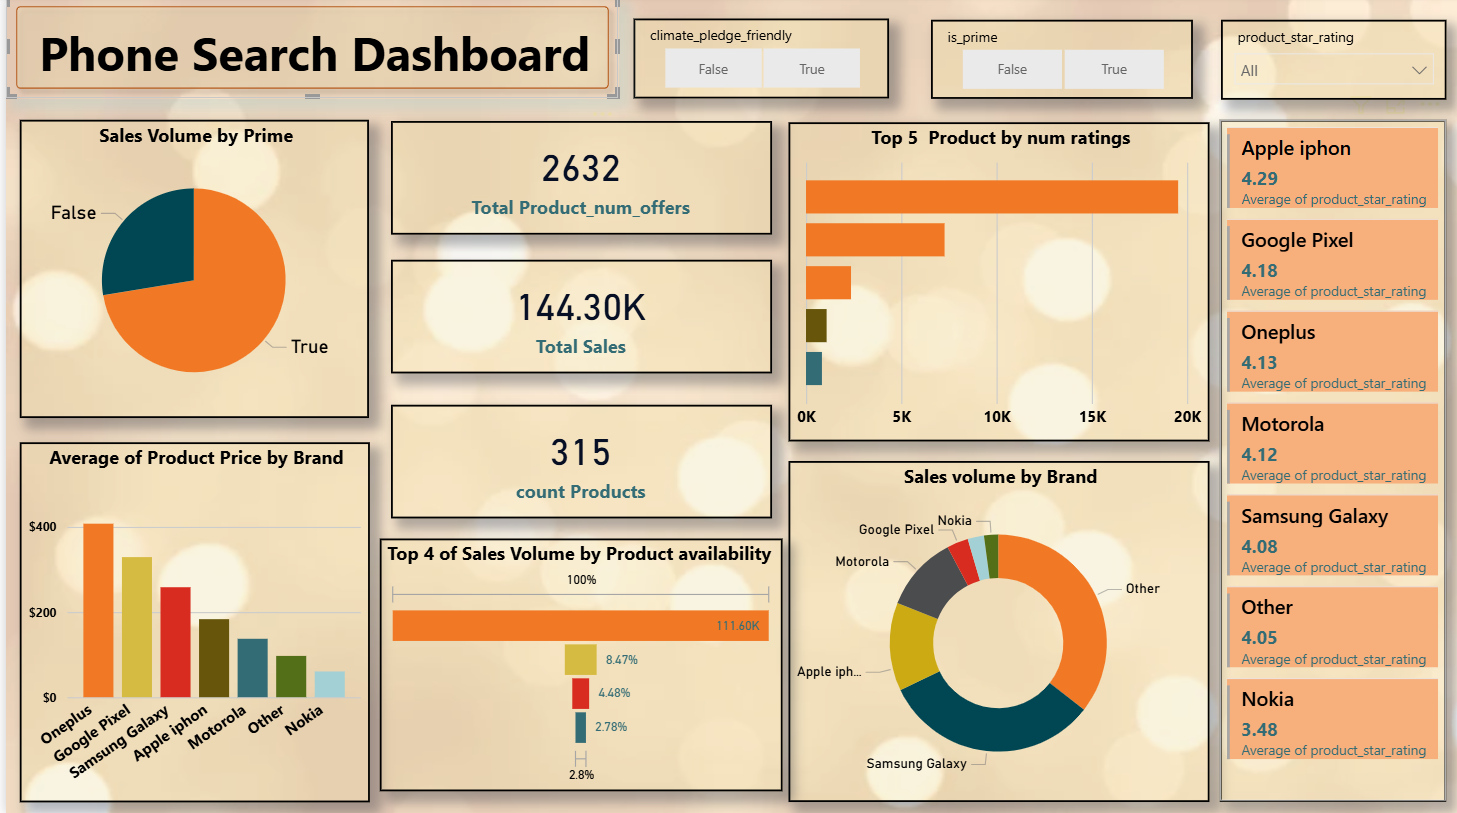

The page's visual inventory and layout, read from the dashboard file:
{"tool":"powerbi","page":{"name":"Dashboard","canvas":[1280,720],"ordinal":1},"visuals":[{"type":"shape","box":[0,0,539.3,90.6],"z":0},{"type":"clusteredColumnChart","title":"Average of Product Price by Brand","fields":{"Y":["Avg(phone search (1).product_price)"],"Category":["phone search (1).Brand"]},"box":[11.7,392.2,307.8,316.9],"z":1000},{"type":"donutChart","title":"Sales volume by Brand","fields":{"Y":["Sum(phone search (1).sales_volume)"],"Category":["phone search (1).Brand"]},"box":[688.1,409.5,370.2,300],"z":2000},{"type":"pieChart","title":" Sales Volume by Prime","fields":{"Y":["Sum(phone search (1).sales_volume)"],"Category":["phone search (1).is_prime"]},"box":[12.3,108.4,307.4,262.1],"z":3000},{"type":"funnel","title":"Top 4 of Sales Volume by Product availability","fields":{"Category":["phone search (1).product_availability"],"Y":["Sum(phone search (1).sales_volume)"]},"box":[328.6,477.4,354.8,222.6],"z":4000},{"type":"barChart","title":"Top 5  Product by num ratings ","fields":{"Category":["phone search (1).product_title"],"Y":["Sum(phone search (1).product_num_ratings)"]},"box":[688.1,110.7,370.2,281],"z":5000},{"type":"card","fields":{"Values":["Dax Measurable.Distinct Products Sold"]},"box":[339,359.7,335.1,100],"z":6000},{"type":"card","fields":{"Values":["Dax Measurable.Total Sales"]},"box":[339,232.5,335.1,100],"z":7000},{"type":"card","fields":{"Values":["Dax Measurable.Total Product_num_offers"]},"box":[339,110.4,335.1,100],"z":8000},{"type":"multiRowCard","fields":{"Values":["phone search (1).Brand","Avg(phone search (1).product_star_rating)"]},"box":[1067.9,108.3,198.8,600],"z":9000},{"type":"slicer","fields":{"Values":["phone search (1).is_prime"]},"box":[813.7,20.6,230.5,70],"z":10000},{"type":"slicer","fields":{"Values":["phone search (1).product_star_rating"]},"box":[1068.8,20.8,198.7,70.1],"z":11000},{"type":"slicer","fields":{"Values":["phone search (1).climate_pledge_friendly"]},"box":[552.4,20.2,225,70.2],"z":12000}]}

Visuals, with their boxes in screenshot pixels (x1, y1, x2, y2), scaled from the page's 1280x720 canvas onto the 1457x813 screenshot:
shape: [0, 0, 614, 102]
"Average of Product Price by Brand" clusteredColumnChart: [13, 443, 364, 801]
"Sales volume by Brand" donutChart: [783, 462, 1205, 801]
" Sales Volume by Prime" pieChart: [14, 122, 364, 418]
"Top 4 of Sales Volume by Product availability" funnel: [374, 539, 778, 790]
"Top 5  Product by num ratings " barChart: [783, 125, 1205, 442]
card - Dax Measurable.Distinct Products Sold: [386, 406, 767, 519]
card - Dax Measurable.Total Sales: [386, 263, 767, 375]
card - Dax Measurable.Total Product_num_offers: [386, 125, 767, 238]
multiRowCard - phone search (1).Brand x Avg(phone search (1).product_star_rating): [1216, 122, 1442, 800]
slicer - phone search (1).is_prime: [926, 23, 1189, 102]
slicer - phone search (1).product_star_rating: [1217, 23, 1443, 103]
slicer - phone search (1).climate_pledge_friendly: [629, 23, 885, 102]
